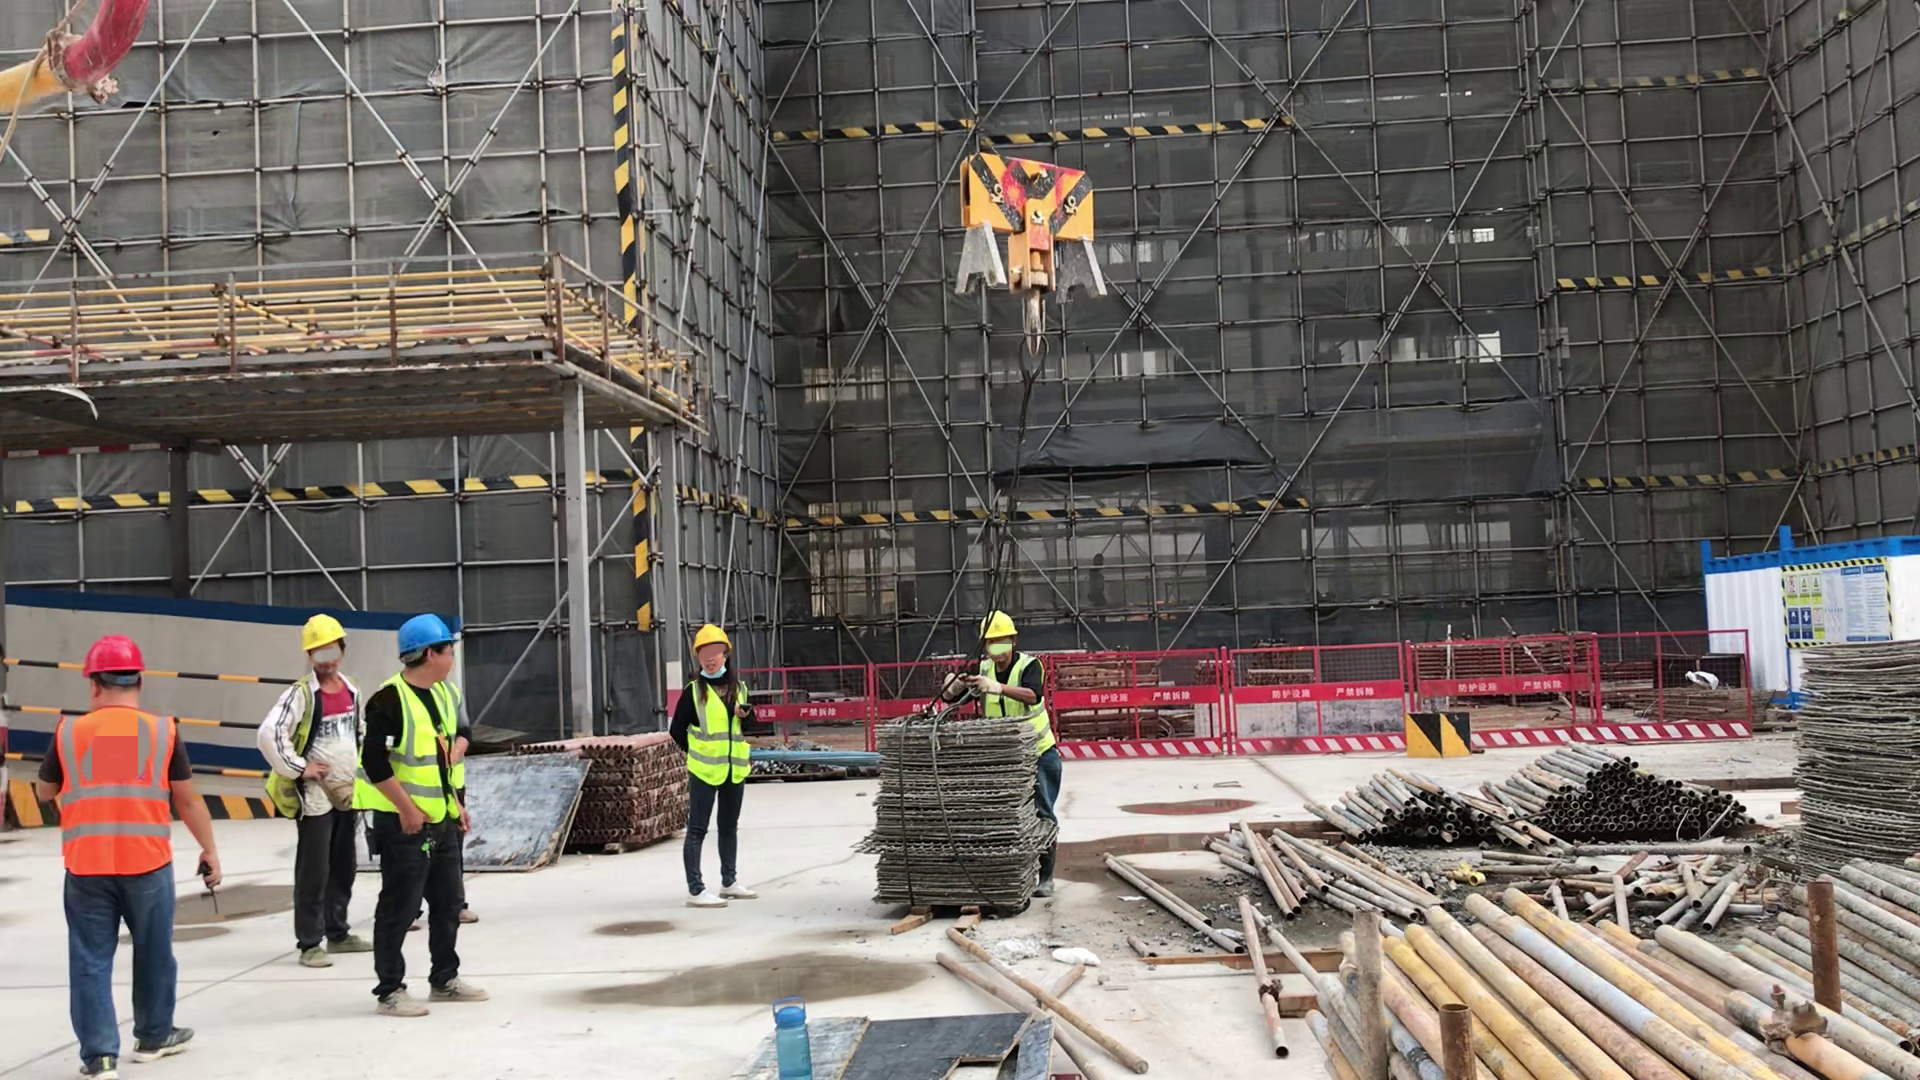fence: (759, 627, 1746, 776)
helmet: (396, 612, 458, 653), (81, 638, 146, 672), (302, 612, 343, 650), (977, 606, 1017, 639), (692, 624, 735, 651)
hook: (955, 153, 1108, 357)
person: (34, 636, 224, 1080), (355, 614, 491, 1017), (258, 612, 374, 969), (939, 609, 1063, 896), (667, 626, 760, 909)
scaffold: (874, 724, 1042, 912), (1794, 649, 1920, 882), (585, 733, 682, 853)
vest: (58, 707, 175, 874), (356, 674, 465, 819), (979, 657, 1052, 758), (685, 680, 747, 783)
